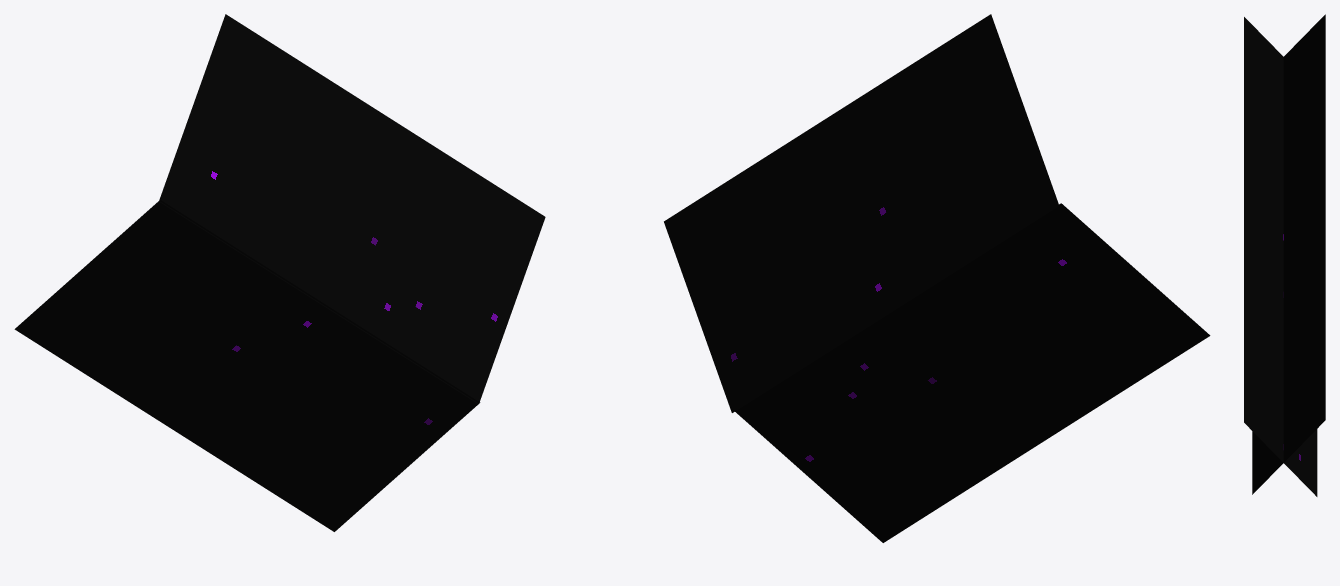
Rendered from demigodsunholyblade.gltf.
The picture shows the model from 3 angles, left to right: view 1: azimuth 30°, elevation 25°; view 2: azimuth 150°, elevation 25°; view 3: azimuth 270°, elevation 25°; orthographic projection. The views are drawn at different scales.
Visible parts, largest first — view 1: cube (×2); view 2: cube (×2); view 3: cube (×2).
Boxes of the visible parts, x1=… form: cube (×2): x1=14, y1=14, x2=545, y2=531; cube (×2): x1=664, y1=14, x2=1210, y2=542; cube (×2): x1=1244, y1=14, x2=1325, y2=496.
Bounding box in the file's own units: 0.5606 × 0.5499 × 0.0843.
Materials: 1 (1 with a texture image).
